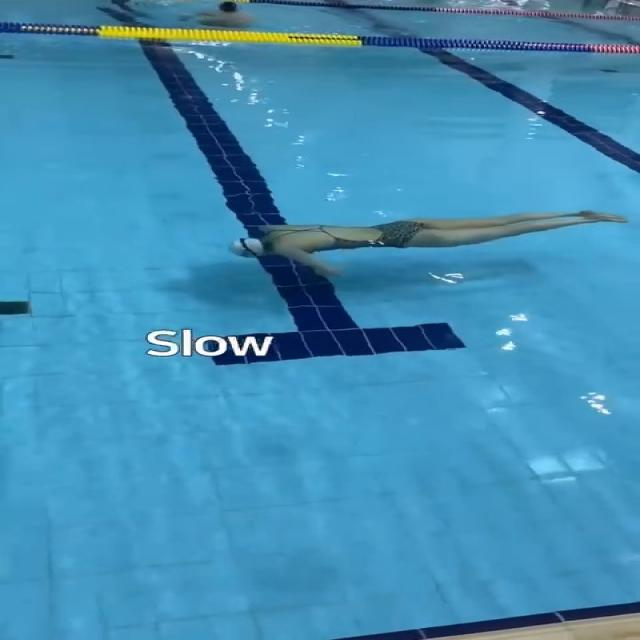Drowning: (228, 198, 628, 277)
